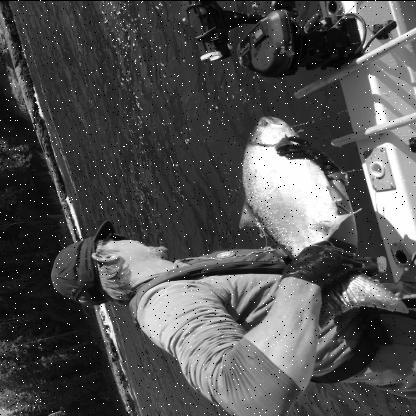fish: (237, 115, 408, 328)
